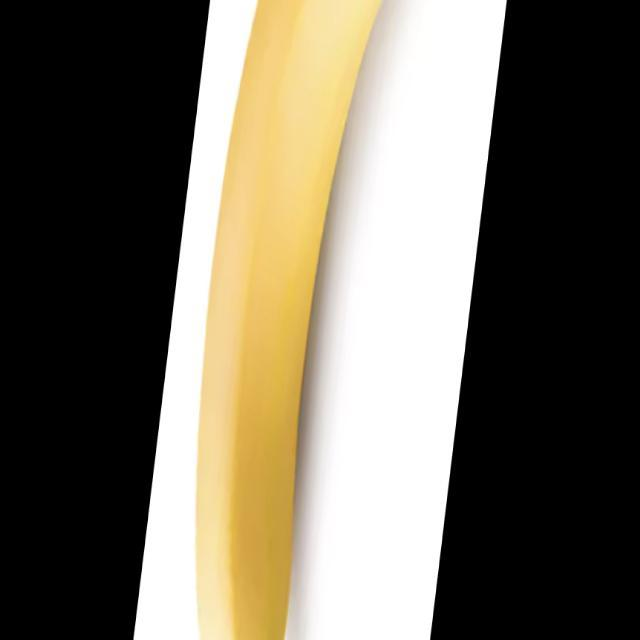Banana: (193, 0, 388, 639)
